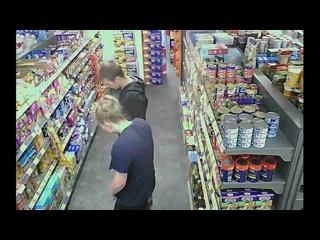Normal: (94, 95, 156, 210), (98, 60, 148, 120)
